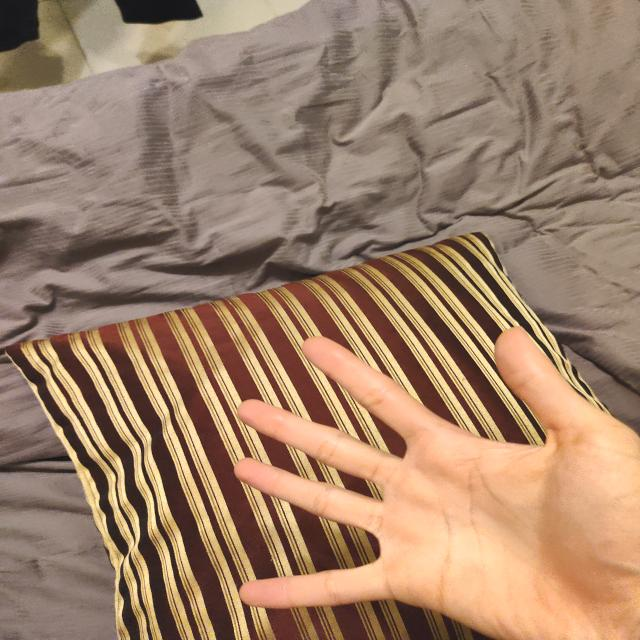no_glove: (208, 311, 638, 640)
